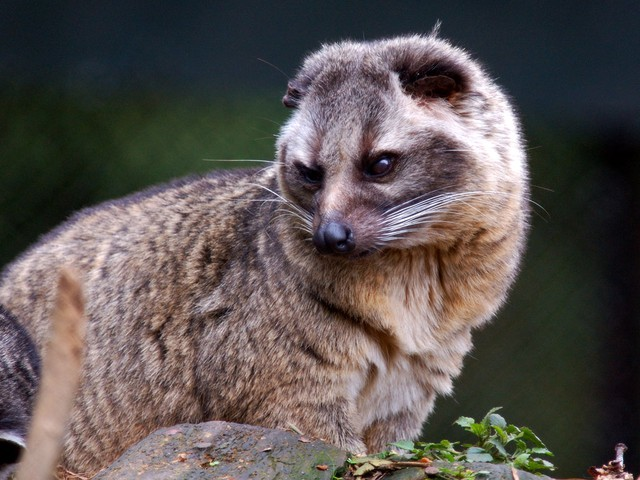civet: (11, 34, 533, 446)
